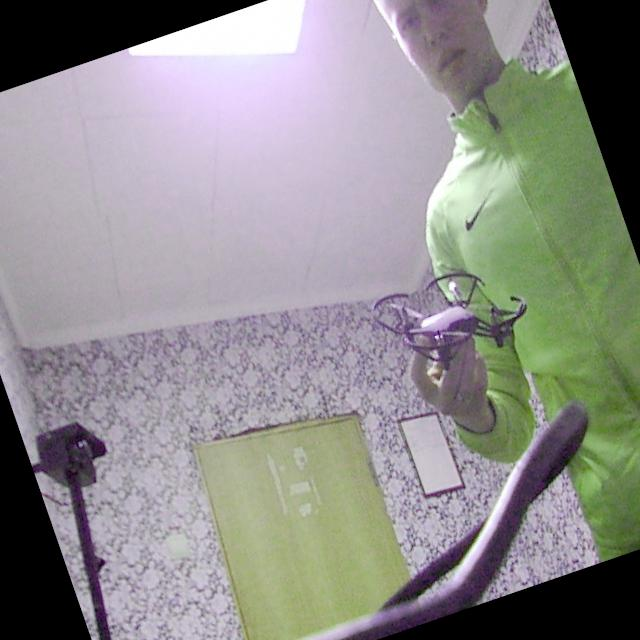drone: (349, 240, 542, 396)
